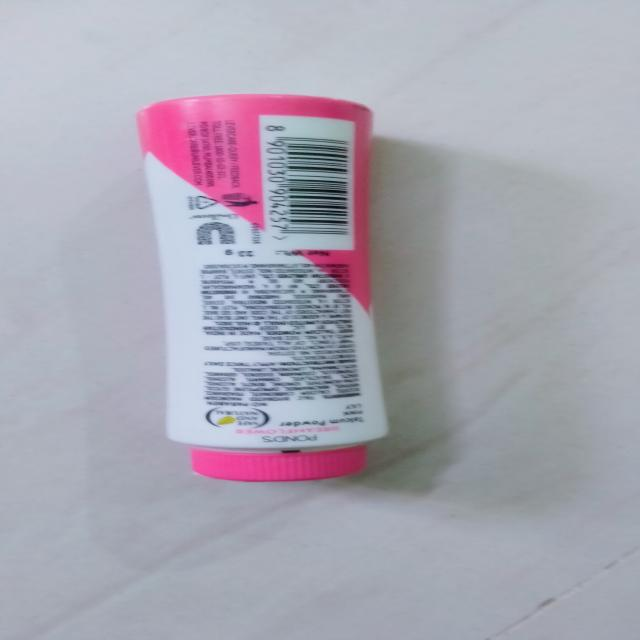powder: (110, 100, 429, 498)
